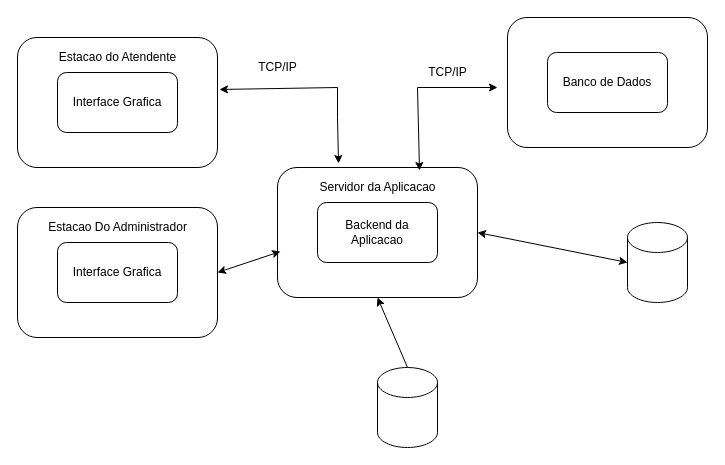
The diagram is 725 pixels wide and 465 high, and some of its shapes have lost their labels. Here are the shapes that lost their labels. From the top down, the box of each, then its label:
(626, 222, 688, 302): Servidor de Backup
(376, 366, 438, 448): Impressora Fiscal
